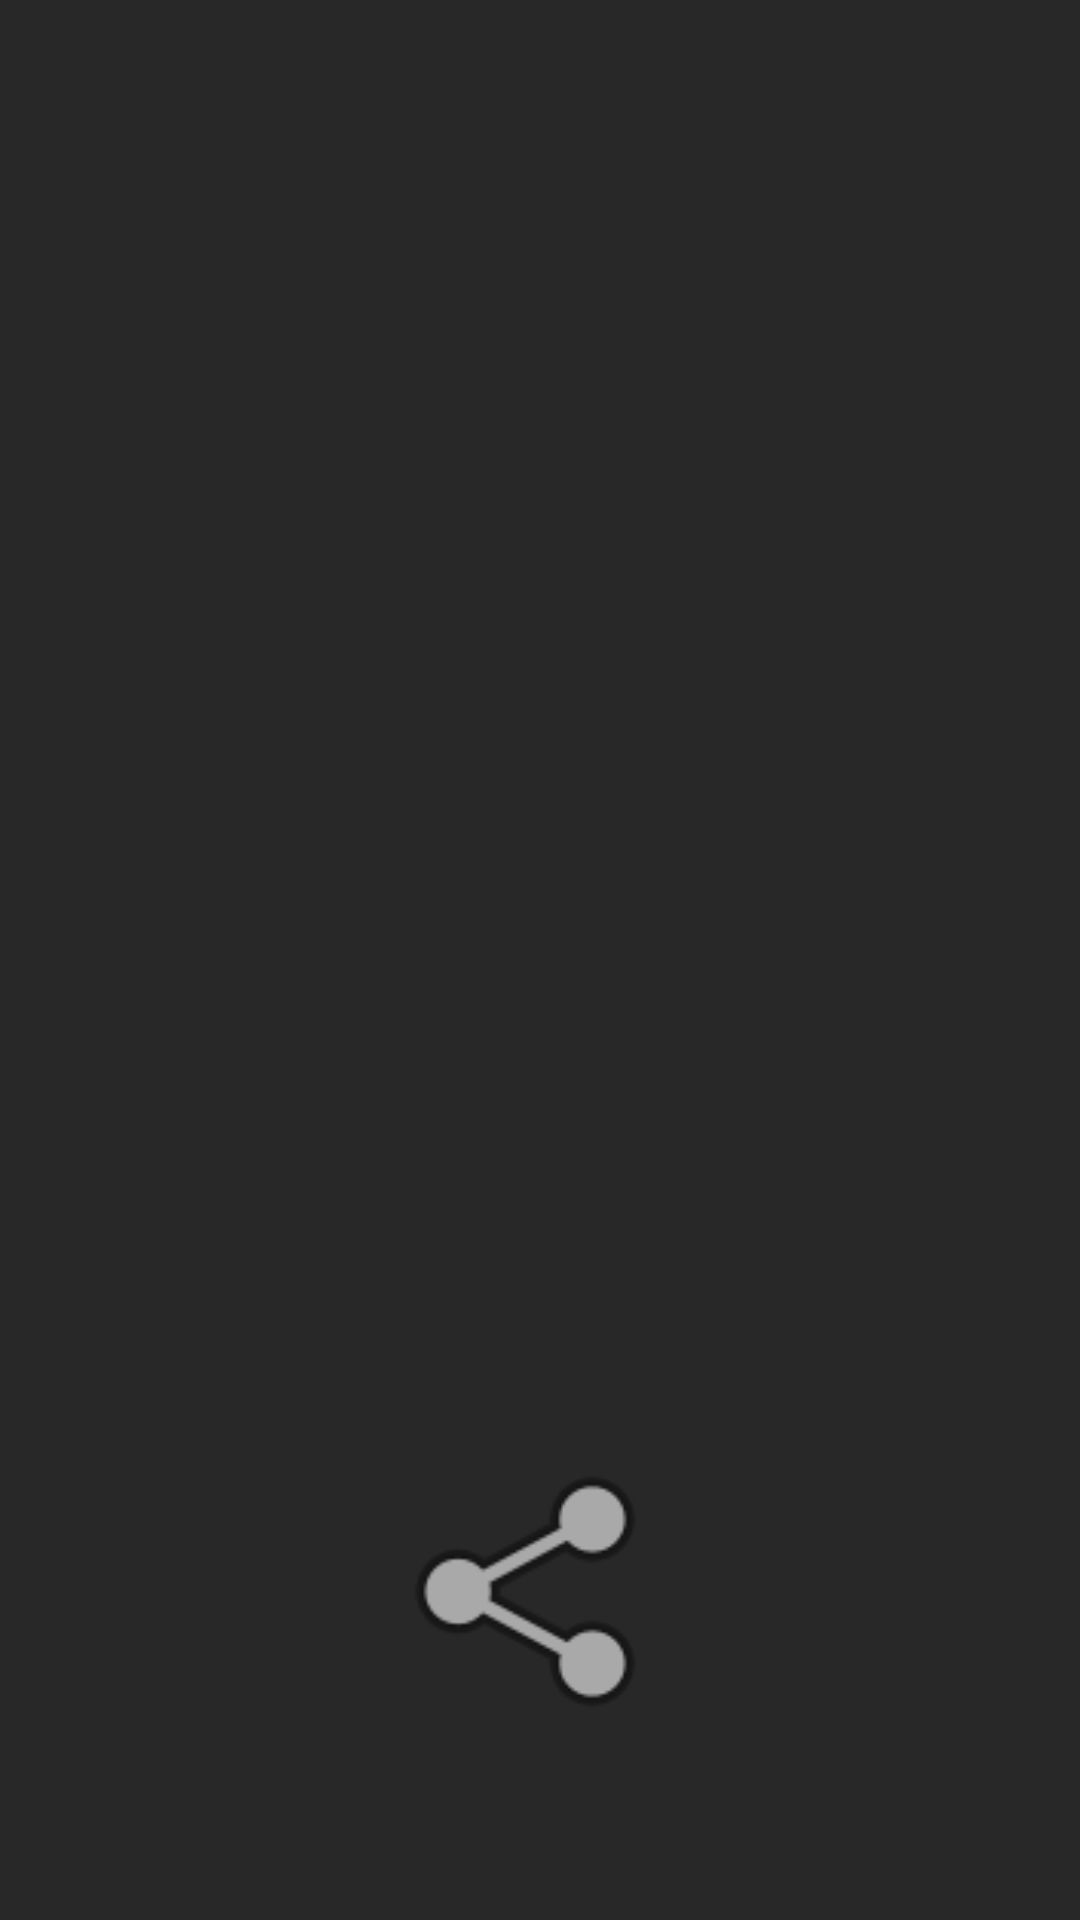

Icon click points for this 1080×1920 phone screenshot, format point (x, y):
share: point (525, 1591)
